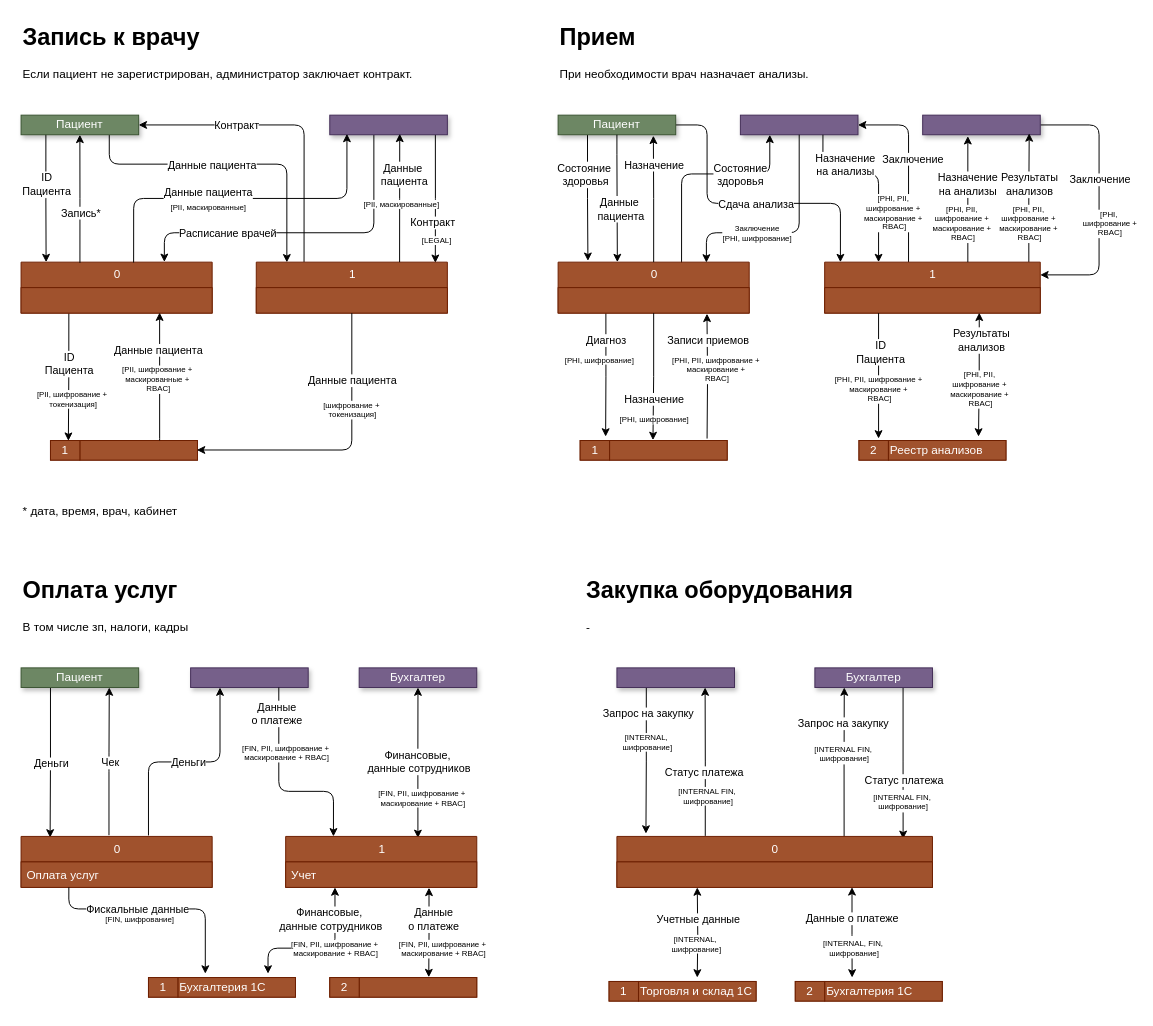
This 1153x1026 diagram has some shape labels left out. The shapes that lost their labels are listed below. From the top down, each one's centre as x and y in pixels, then its label:
At point (389, 126): "Администратор".
At point (799, 126): "Врач".
At point (982, 126): "Лаборатория".
At point (116, 300): "Запись к врачу".
At point (351, 300): "Заключение контракта".
At point (653, 300): "Прием пациента".
At point (932, 300): "Проведение анализов".
At point (138, 450): "Список Пациентов".
At point (668, 450): "Мед Журнал".
At point (250, 678): "Кассир".
At point (676, 678): "Кладовщик".
At point (774, 874): "Закупка оборудования".
At point (417, 987): "Excel файл".
